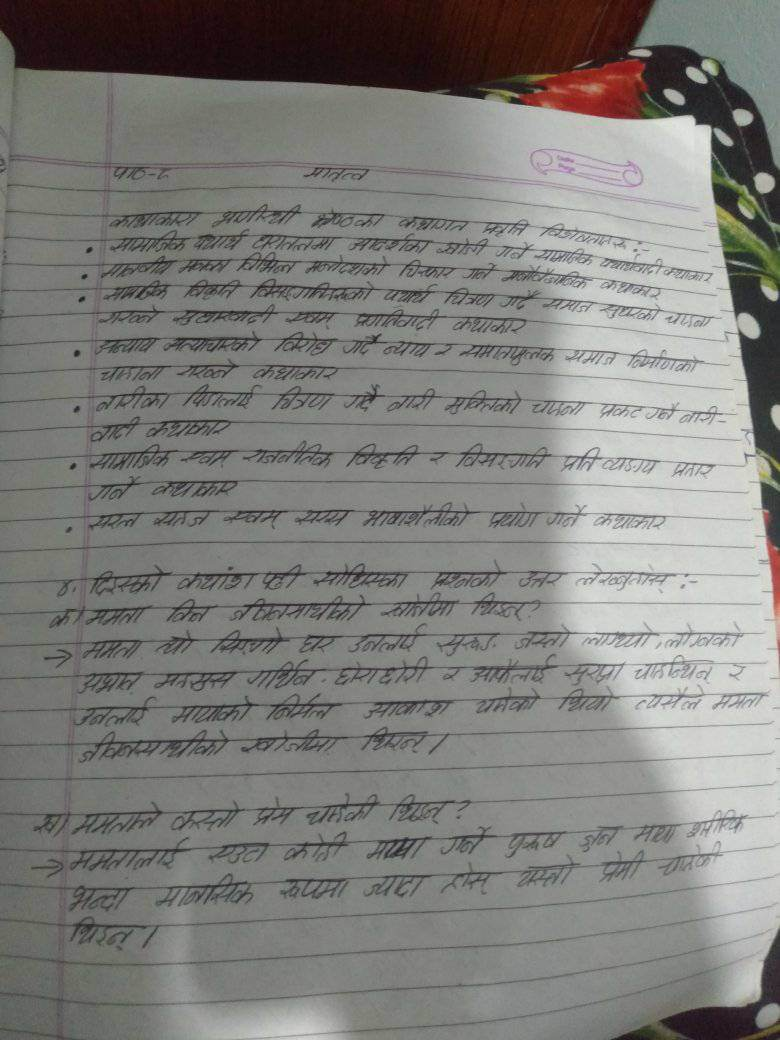text: (72, 730, 228, 762), (149, 872, 264, 908), (69, 839, 190, 871), (226, 597, 372, 622), (359, 499, 476, 530), (309, 561, 413, 594), (573, 561, 668, 596), (250, 278, 376, 303), (72, 801, 162, 834), (455, 441, 549, 472), (357, 724, 437, 759), (332, 659, 432, 687), (166, 696, 257, 725), (243, 730, 344, 756), (460, 339, 555, 366), (64, 917, 141, 950), (244, 442, 333, 470), (306, 791, 379, 825), (654, 846, 734, 877), (663, 620, 743, 651), (164, 332, 262, 357), (149, 477, 250, 501), (362, 871, 431, 906), (64, 882, 139, 914), (633, 655, 713, 685), (429, 558, 504, 590), (74, 696, 151, 727), (107, 159, 189, 188), (591, 507, 672, 536), (539, 220, 629, 246), (354, 697, 451, 721), (171, 802, 248, 832), (447, 387, 523, 417), (93, 384, 174, 412), (176, 565, 259, 592), (627, 347, 707, 375), (469, 660, 555, 686), (441, 861, 503, 897), (297, 161, 382, 187), (87, 567, 165, 595), (343, 440, 418, 469), (382, 595, 456, 624), (205, 629, 287, 655), (173, 307, 277, 327), (213, 202, 299, 226), (347, 627, 423, 654), (390, 793, 454, 825), (276, 876, 351, 903), (104, 207, 200, 228), (153, 668, 237, 692), (86, 444, 173, 467), (204, 841, 275, 869), (634, 686, 705, 714), (515, 860, 579, 891), (145, 418, 235, 440), (462, 689, 544, 713), (581, 623, 651, 651), (501, 266, 590, 288), (303, 254, 388, 277), (684, 810, 751, 839), (351, 308, 439, 330), (182, 384, 258, 409), (283, 833, 350, 861), (251, 232, 340, 253), (448, 315, 532, 337), (269, 695, 336, 722), (359, 837, 434, 861), (250, 361, 340, 381), (247, 662, 316, 688), (347, 234, 432, 255), (294, 505, 351, 536), (108, 231, 188, 253), (502, 828, 567, 855), (554, 689, 621, 715), (432, 630, 498, 656), (564, 657, 623, 686), (468, 592, 529, 620), (223, 506, 284, 534), (311, 205, 384, 228), (561, 344, 621, 371), (438, 829, 495, 857), (86, 474, 141, 503), (272, 386, 333, 412), (101, 280, 173, 302), (596, 852, 641, 887), (601, 299, 664, 324), (76, 669, 141, 693), (398, 257, 458, 283), (527, 394, 589, 419), (600, 275, 663, 299), (183, 278, 244, 302), (96, 306, 169, 326), (487, 504, 541, 531), (386, 388, 440, 415), (275, 331, 333, 356), (151, 507, 211, 531), (177, 446, 236, 470), (515, 625, 571, 650), (602, 452, 658, 477), (100, 258, 176, 276), (175, 361, 240, 382), (559, 444, 598, 479), (79, 637, 141, 659), (85, 416, 141, 440), (395, 213, 469, 231), (96, 363, 166, 382), (84, 604, 147, 625), (236, 254, 299, 275), (94, 333, 154, 355), (665, 460, 721, 483), (712, 692, 766, 715), (87, 510, 143, 532), (600, 255, 661, 275), (254, 797, 293, 828), (164, 598, 212, 623), (382, 284, 436, 306), (154, 629, 196, 657), (679, 402, 719, 431), (573, 826, 621, 850), (343, 384, 379, 416), (514, 567, 564, 590), (262, 562, 300, 592), (666, 308, 713, 332), (547, 502, 584, 532), (339, 333, 380, 360), (442, 286, 492, 308), (287, 308, 339, 328), (295, 633, 342, 655), (544, 293, 593, 314), (534, 247, 593, 264), (631, 822, 674, 845), (664, 264, 713, 284), (598, 400, 642, 422), (383, 338, 429, 359), (501, 289, 539, 313), (179, 258, 230, 275), (46, 574, 78, 601), (437, 238, 487, 255), (480, 219, 529, 236), (34, 810, 64, 837), (464, 260, 497, 283), (726, 658, 756, 683), (647, 401, 677, 424), (46, 607, 74, 629), (495, 242, 529, 260), (426, 446, 447, 468), (443, 662, 462, 686), (436, 340, 453, 360)
